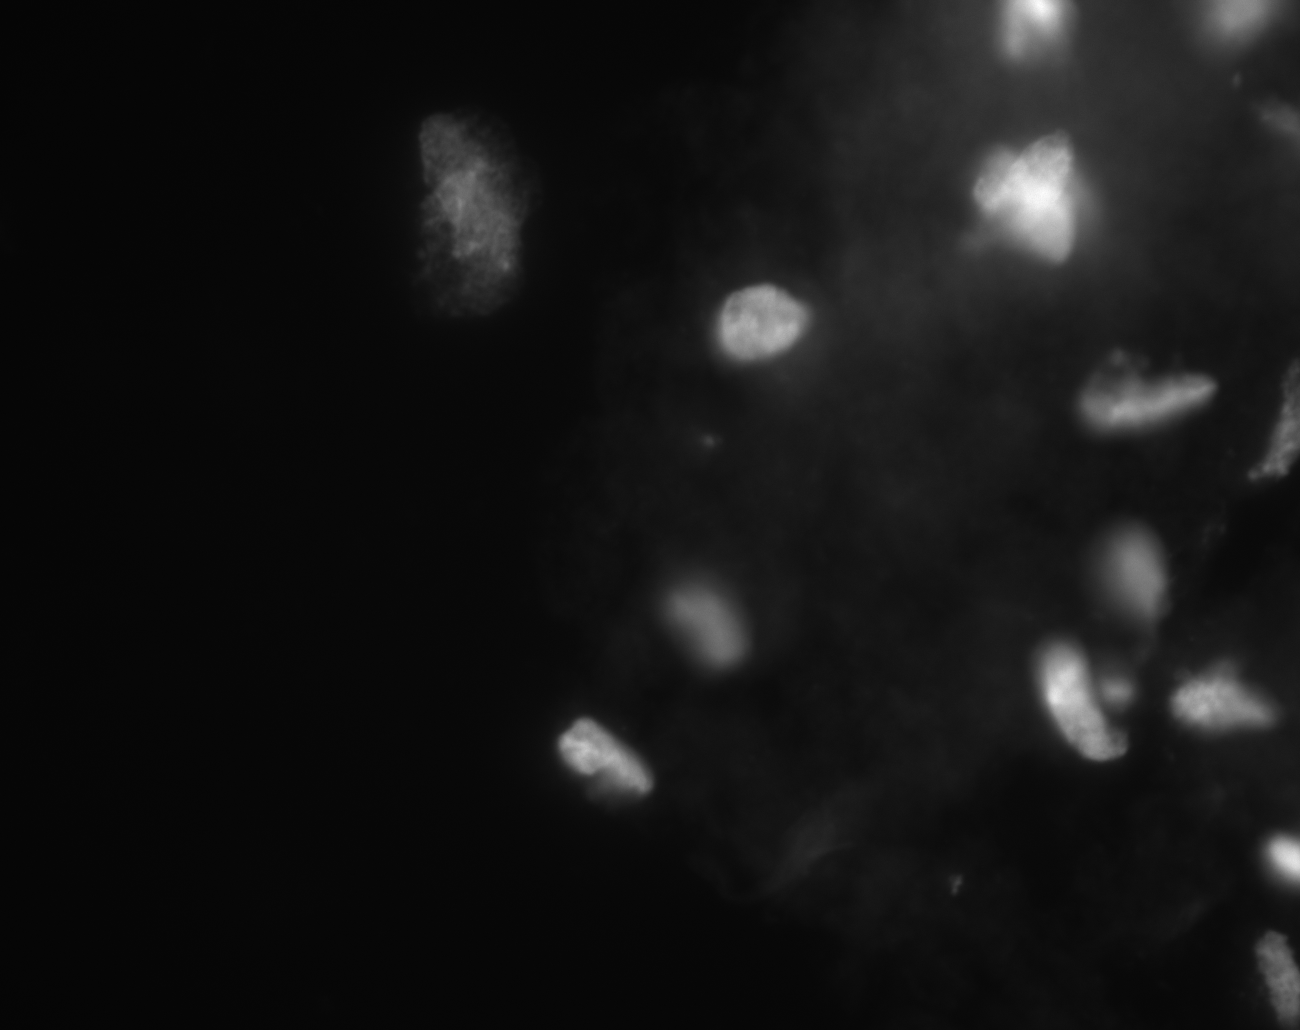Others: (828, 69, 1250, 332), (821, 7, 1239, 191), (366, 59, 567, 375), (992, 321, 1300, 500), (933, 107, 1148, 287), (615, 522, 817, 706), (1049, 287, 1270, 451), (928, 25, 1134, 174), (984, 600, 1169, 764), (1087, 18, 1262, 188), (1067, 495, 1232, 673), (1075, 599, 1245, 760), (522, 670, 694, 826), (672, 249, 844, 393), (1183, 818, 1281, 1021), (1162, 615, 1280, 763), (932, 1, 1131, 88), (1062, 5, 1241, 90)
